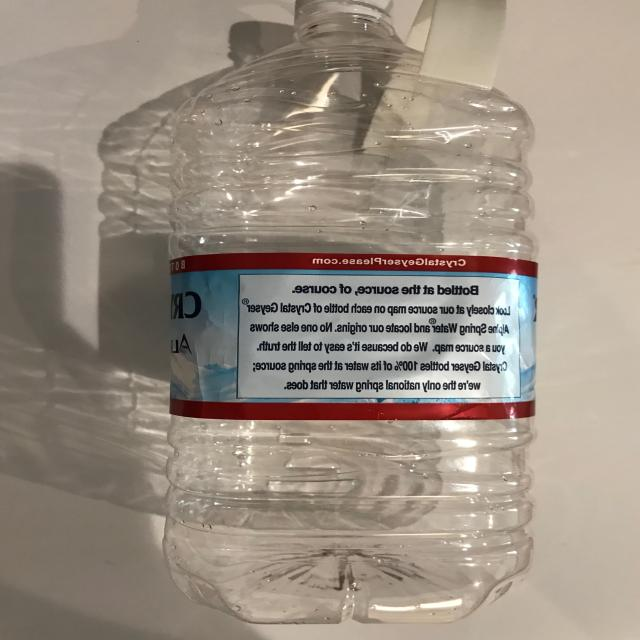plastic: (162, 0, 539, 625)
